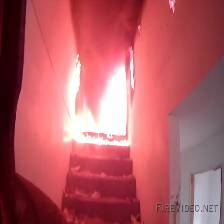fire_h: (64, 53, 128, 147)
fire_l: (129, 59, 134, 88), (170, 1, 174, 9)
